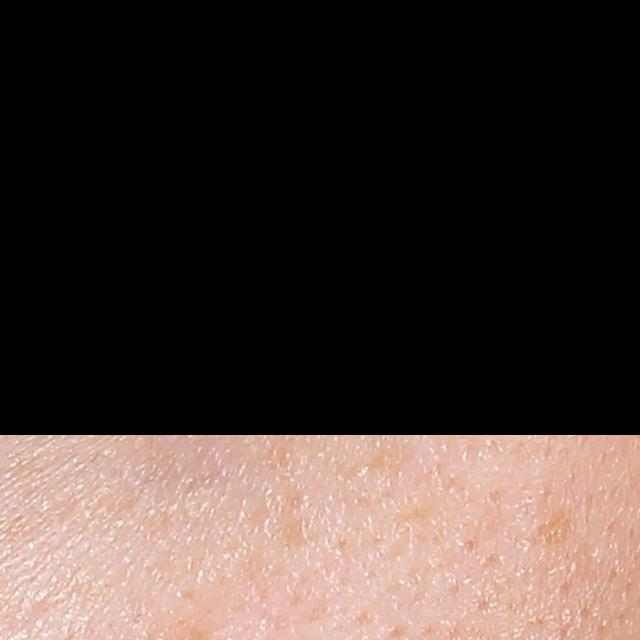melasma: (525, 504, 576, 552)
